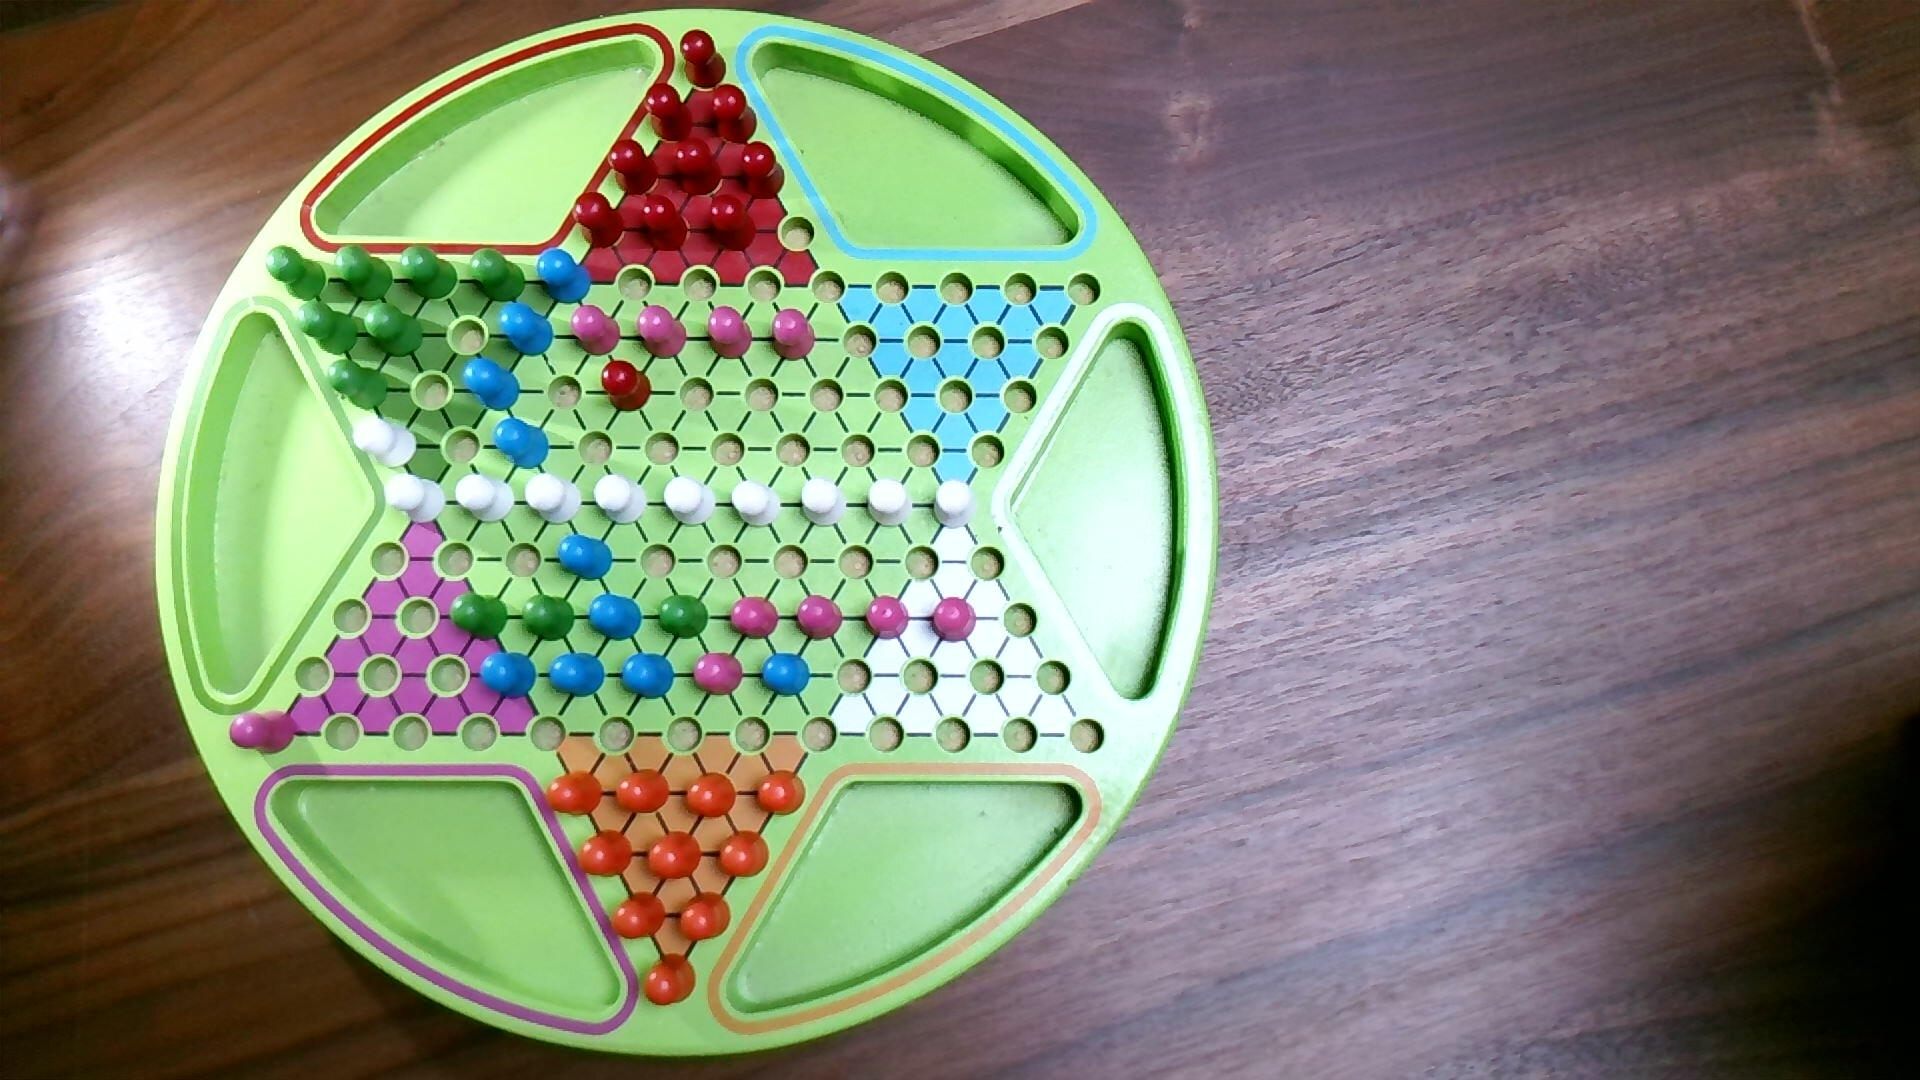B: (462, 357, 524, 414), (498, 301, 556, 359), (535, 247, 593, 305), (493, 417, 553, 472), (477, 649, 539, 702), (556, 533, 615, 584), (620, 651, 676, 702), (588, 593, 645, 644), (549, 651, 607, 700), (760, 651, 812, 699)
G: (262, 244, 328, 303), (295, 299, 361, 357), (334, 243, 396, 303), (398, 244, 462, 303), (363, 302, 425, 360), (327, 357, 392, 413), (468, 247, 527, 305), (521, 593, 578, 644), (450, 591, 508, 640), (658, 593, 711, 642)
O: (642, 952, 699, 1009), (645, 829, 704, 884), (676, 890, 735, 944), (575, 828, 636, 880), (543, 769, 605, 819), (611, 890, 669, 942), (716, 829, 771, 882), (615, 767, 673, 818), (683, 771, 738, 822), (754, 770, 808, 818)
R: (679, 26, 731, 92), (570, 191, 626, 251), (708, 82, 760, 146), (607, 137, 661, 198), (671, 137, 725, 198), (705, 193, 758, 255), (644, 80, 695, 144), (640, 193, 691, 255), (740, 140, 789, 202), (601, 359, 654, 414)
R2: (228, 709, 299, 757), (636, 303, 690, 361), (571, 303, 622, 357), (707, 305, 754, 363), (795, 593, 847, 644), (862, 593, 913, 644), (771, 309, 818, 363), (930, 595, 978, 645), (729, 595, 781, 642), (692, 651, 745, 698)
W: (351, 415, 419, 469), (385, 472, 447, 527), (455, 472, 518, 526), (524, 472, 584, 527), (593, 473, 649, 527), (663, 475, 717, 529), (731, 477, 783, 530), (866, 477, 915, 531), (800, 477, 849, 530), (932, 479, 977, 530)
